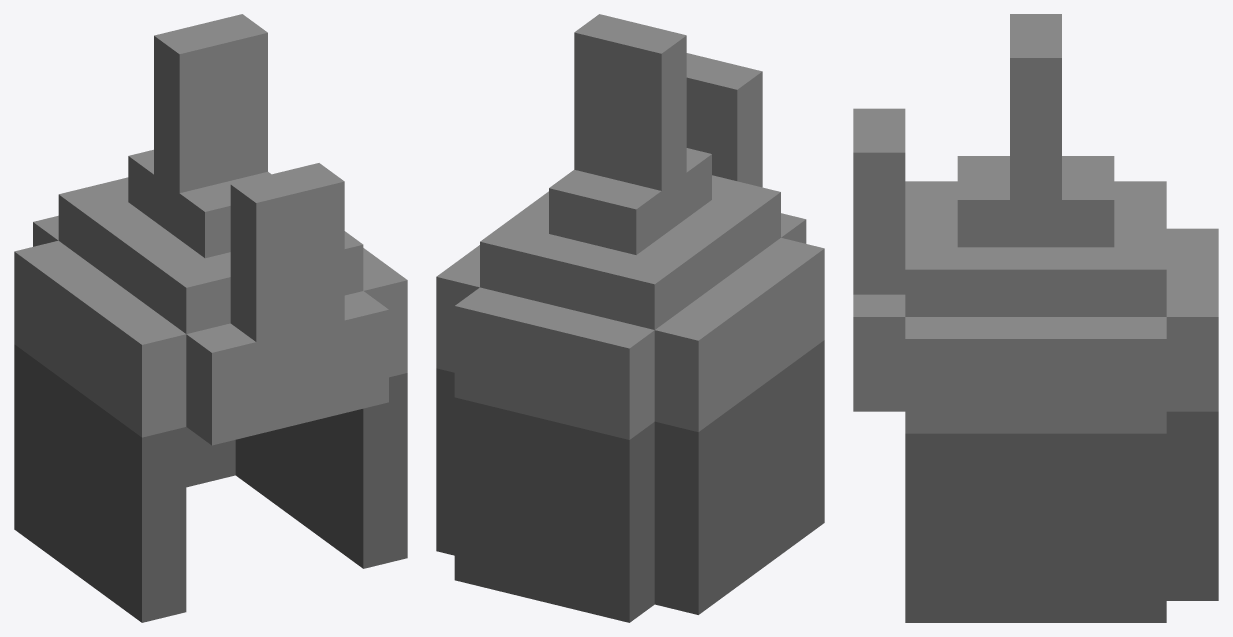
The model's file is characters_export_red-166-helm_med_1c_sh.obj.
3 views of the same model, side by side, from view 1: azimuth 30°, elevation 25°; view 2: azimuth 150°, elevation 25°; view 3: azimuth 270°, elevation 25° (orthographic). The views are drawn at different scales.
Parts seen in each view (by area): view 1: helm_med_1c_sh; view 2: helm_med_1c_sh; view 3: helm_med_1c_sh.
Part boxes in pixels (x1,y1,x2,y2): helm_med_1c_sh: (14,14,407,622); helm_med_1c_sh: (436,14,824,622); helm_med_1c_sh: (853,14,1218,622).
Size of the model in its own units: 0.6 by 1.1 by 0.7.
1 material, 1 textured.
